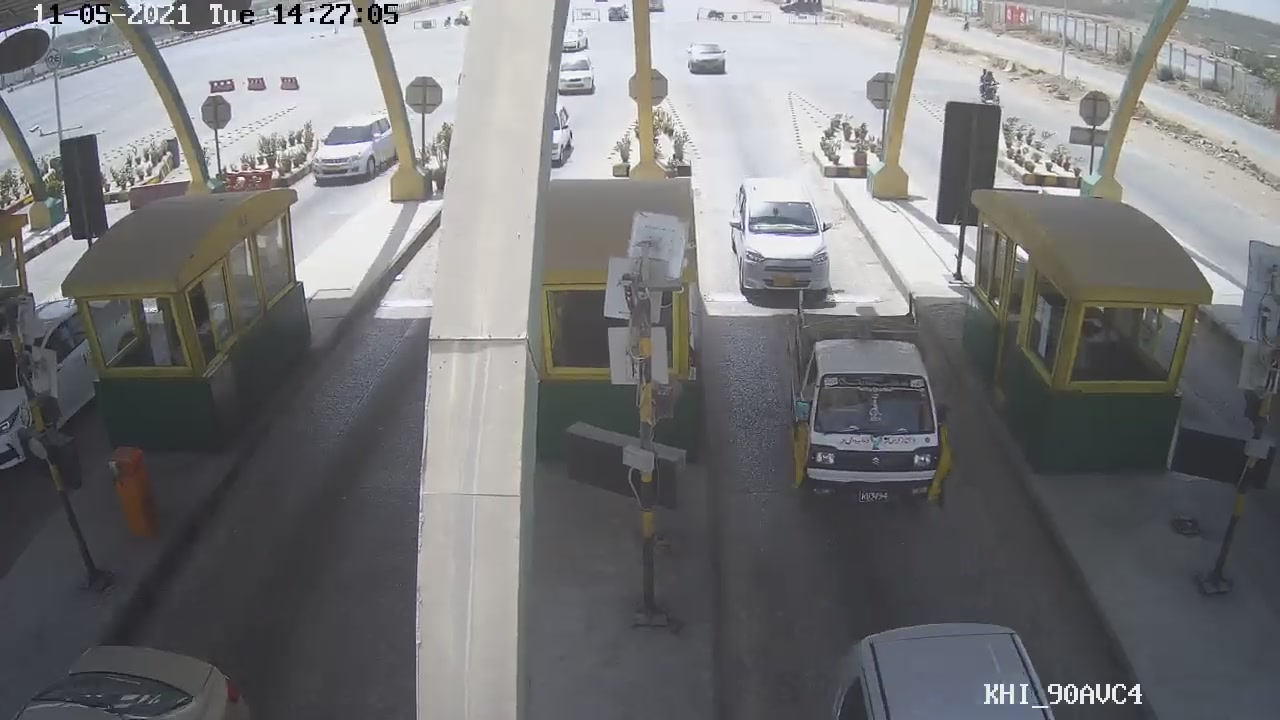F1: (770, 287, 956, 522)
